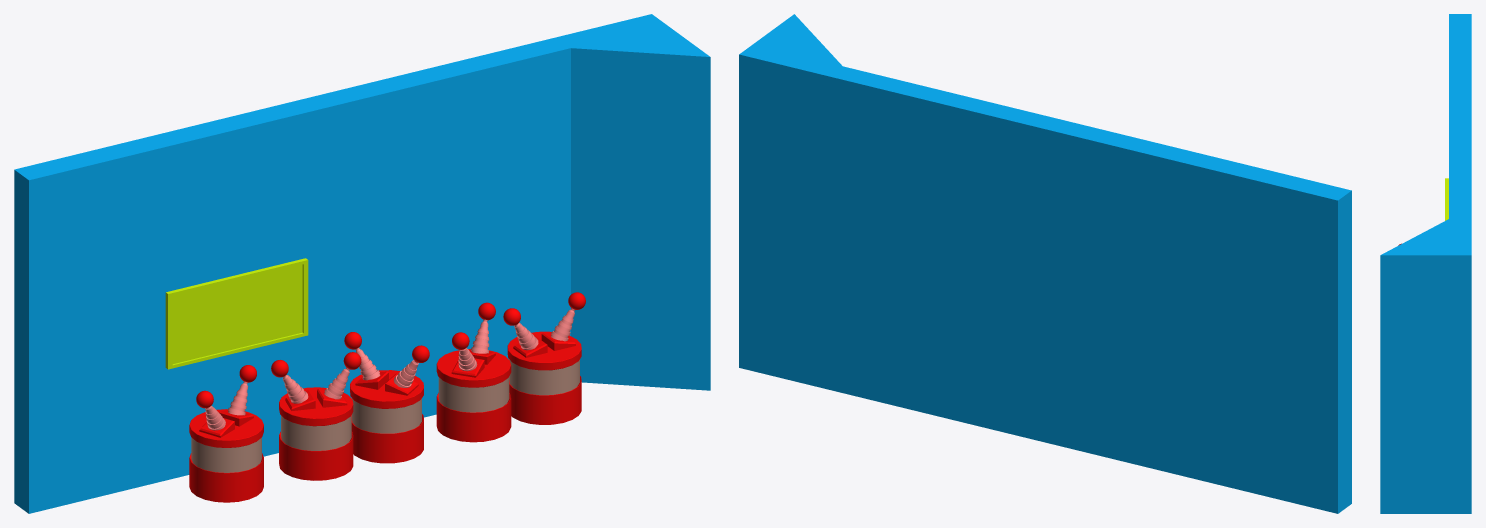
File: 1x1WallVariation2.fbx
3 views of the same model, side by side, from view 1: azimuth 30°, elevation 25°; view 2: azimuth 150°, elevation 25°; view 3: azimuth 270°, elevation 25° (orthographic). The views are drawn at different scales.
Visible parts, largest first — view 1: Wall, DynamoBase (×5), Billboard, DynamoVidrio (×5), DynamoTop (×5); view 2: Wall; view 3: Wall, Billboard.
Boxes of the visible parts, bbox=[...] form: Wall: bbox=[14, 14, 710, 513]; DynamoBase (×5): bbox=[189, 376, 581, 502]; Billboard: bbox=[165, 258, 308, 369]; DynamoVidrio (×5): bbox=[191, 359, 579, 472]; DynamoTop (×5): bbox=[189, 331, 581, 447]; Wall: bbox=[739, 14, 1351, 513]; Wall: bbox=[1380, 14, 1471, 513]; Billboard: bbox=[1445, 178, 1448, 220].
Size of the model in its own units: 100 by 50 by 16.
